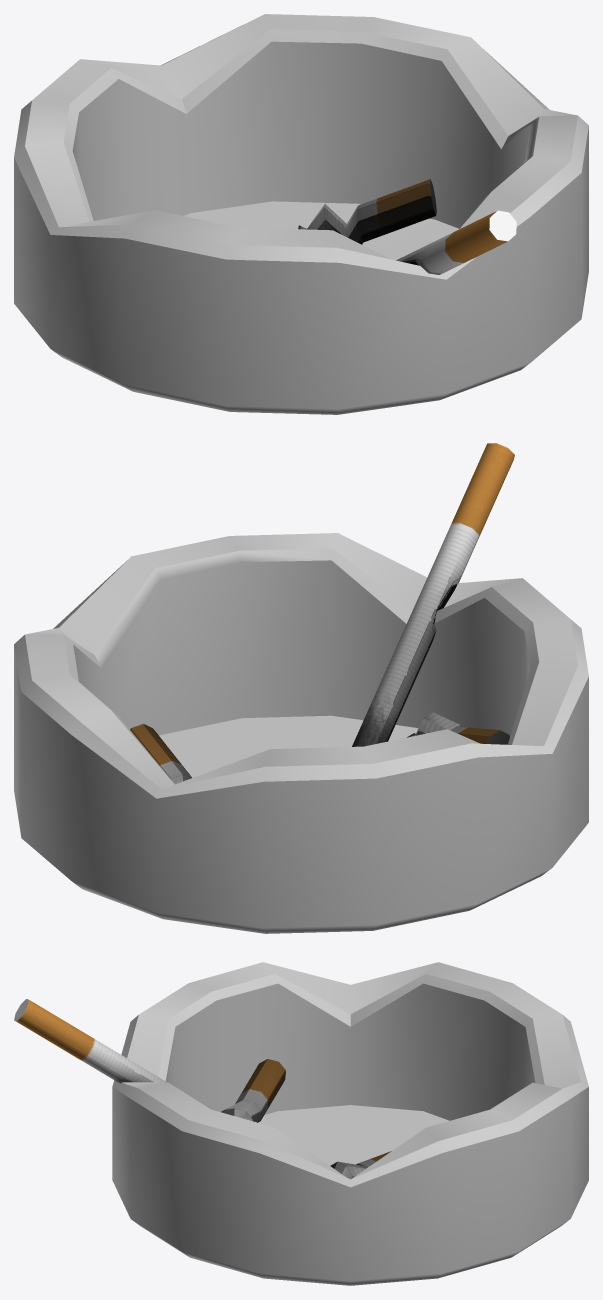
File: Clutter_AshtrayCigs.fbx
3 views of the same model, one above another, from view 1: azimuth 30°, elevation 25°; view 2: azimuth 150°, elevation 25°; view 3: azimuth 270°, elevation 25° (orthographic). The views are drawn at different scales.
Visible parts, largest first — view 1: polySurface9; view 2: polySurface9; view 3: polySurface9.
Part boxes in pixels (x1,y1,x2,y2): polySurface9: (14,14,588,414); polySurface9: (14,443,588,933); polySurface9: (14,962,588,1285).
Bounding box in the file's own units: 6.24 × 2.97 × 7.53.
